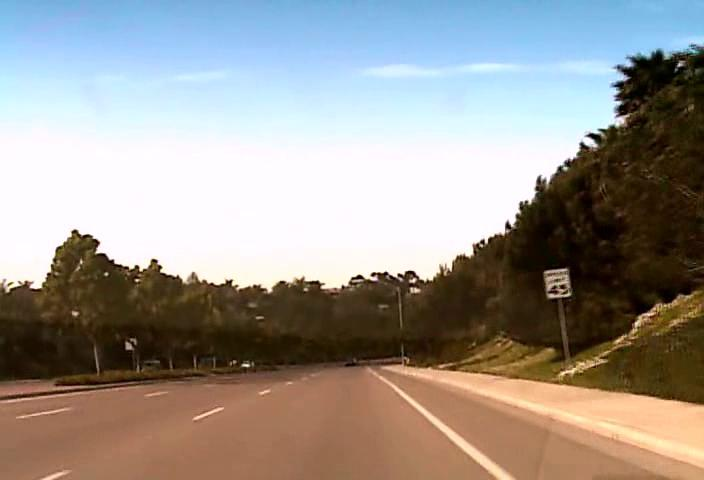speedLimit45: (543, 267, 571, 298)
